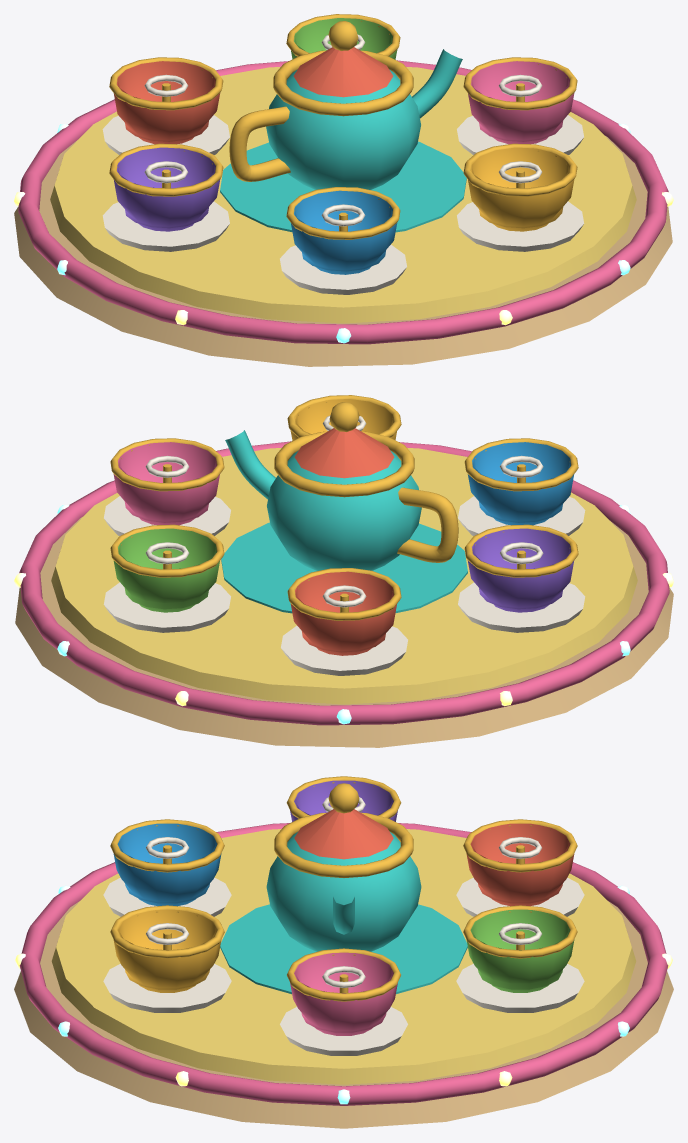
Rendered from teacups.glb.
The picture shows the model from 3 angles, top to bottom: view 1: azimuth 30°, elevation 25°; view 2: azimuth 150°, elevation 25°; view 3: azimuth 270°, elevation 25°; orthographic projection.
Visible parts, largest first — view 1: Mesh_banana, Mesh_flamingo (×2), Mesh_turquoise, Mesh_sandStone, Mesh_gold (×7), Mesh_warmWhite (×5), Mesh_coral (×2), Mesh_mango, Mesh_orchid, Mesh_skyBlue, Mesh_leafLight, Mesh_glowCyan (+1 smaller); view 2: Mesh_banana, Mesh_flamingo (×2), Mesh_turquoise, Mesh_sandStone, Mesh_gold (×7), Mesh_warmWhite (×5), Mesh_coral (×2), Mesh_orchid, Mesh_leafLight, Mesh_skyBlue, Mesh_mango, Mesh_glowCyan (+1 smaller); view 3: Mesh_banana, Mesh_flamingo (×2), Mesh_turquoise, Mesh_sandStone, Mesh_warmWhite (×5), Mesh_gold (×7), Mesh_coral (×2), Mesh_mango, Mesh_leafLight, Mesh_skyBlue, Mesh_orchid, Mesh_glowCyan (+1 smaller).
Part boxes in pixels (<box>): Mesh_banana: <box>50,67,636,323</box>; Mesh_flamingo (×2): <box>18,60,668,344</box>; Mesh_turquoise: <box>220,49,466,232</box>; Mesh_sandStone: <box>14,136,672,366</box>; Mesh_gold (×7): <box>109,14,577,239</box>; Mesh_warmWhite (×5): <box>102,74,584,294</box>; Mesh_coral (×2): <box>113,47,393,144</box>; Mesh_mango: <box>468,147,574,231</box>; Mesh_orchid: <box>113,147,220,231</box>; Mesh_skyBlue: <box>291,190,397,274</box>; Mesh_leafLight: <box>291,18,397,59</box>; Mesh_glowCyan: <box>57,124,630,343</box>; Mesh_banana: <box>51,448,637,704</box>; Mesh_flamingo (×2): <box>19,441,669,725</box>; Mesh_turquoise: <box>221,430,467,613</box>; Mesh_sandStone: <box>15,517,673,747</box>; Mesh_gold (×7): <box>110,395,578,620</box>; Mesh_warmWhite (×5): <box>103,455,585,675</box>; Mesh_coral (×2): <box>290,428,396,655</box>; Mesh_orchid: <box>467,528,574,612</box>; Mesh_leafLight: <box>113,528,219,612</box>; Mesh_skyBlue: <box>467,442,574,525</box>; Mesh_mango: <box>290,399,396,440</box>; Mesh_glowCyan: <box>57,505,630,724</box>; Mesh_banana: <box>51,829,636,1084</box>; Mesh_flamingo (×2): <box>19,823,668,1105</box>; Mesh_turquoise: <box>220,832,467,994</box>; Mesh_sandStone: <box>14,901,673,1128</box>; Mesh_warmWhite (×5): <box>103,837,584,1055</box>; Mesh_gold (×7): <box>110,776,577,1001</box>; Mesh_coral (×2): <box>294,809,574,906</box>; Mesh_mango: <box>113,909,221,992</box>; Mesh_leafLight: <box>466,909,574,992</box>; Mesh_skyBlue: <box>113,823,221,906</box>; Mesh_orchid: <box>290,780,397,821</box>; Mesh_glowCyan: <box>58,885,629,1104</box>.
Bounding box in the file's own units: 5.96 × 2.04 × 5.96.
